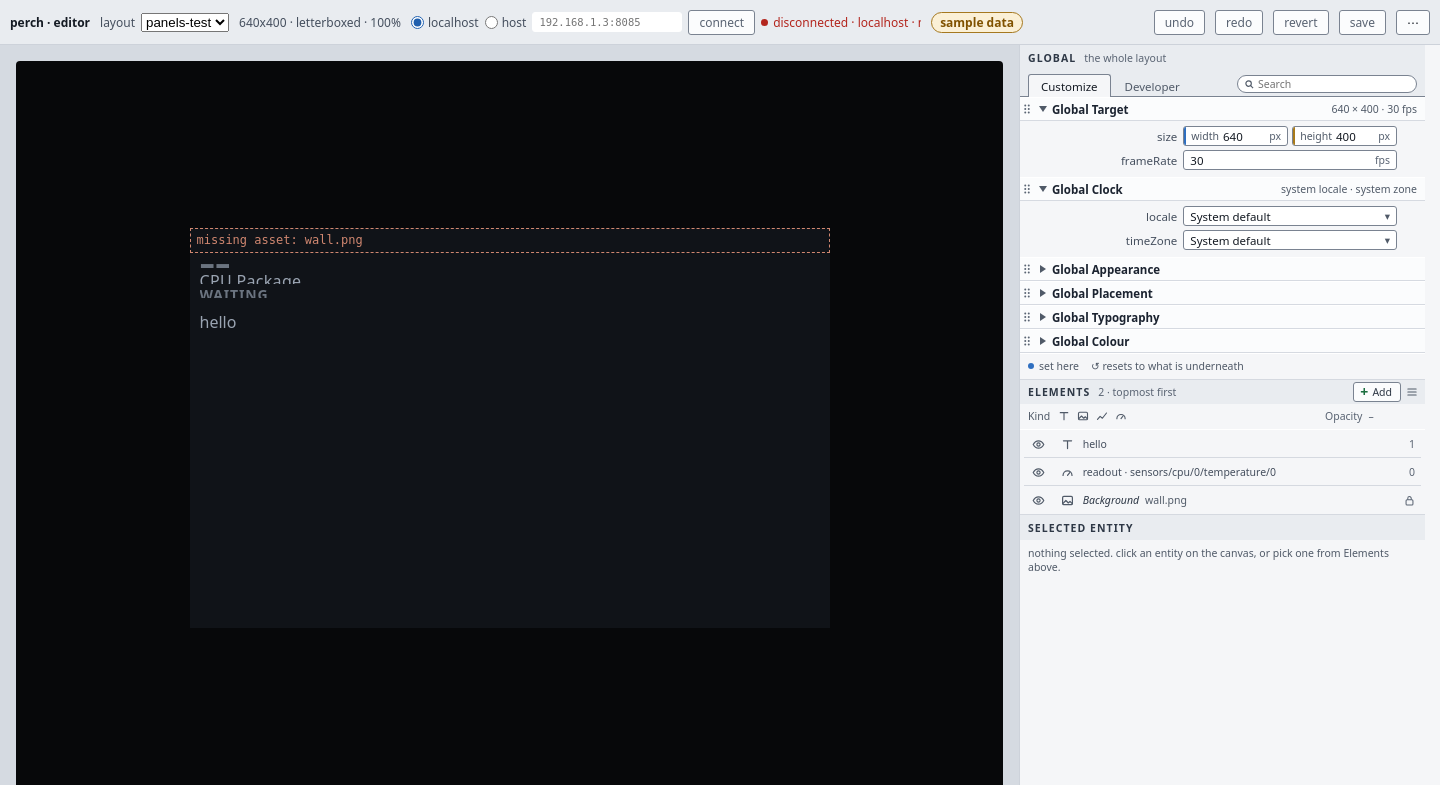
Test: the Elements group › leaves the selected entity with its header first
The width and height of the screenshot is (1440, 785).
What coordinates should you click on to do the following:
click the button "readout · sensors/cpu/0/temperature/0 0"
I would click on:
 (1236, 472)
Its box is [1052,458,1421,486].
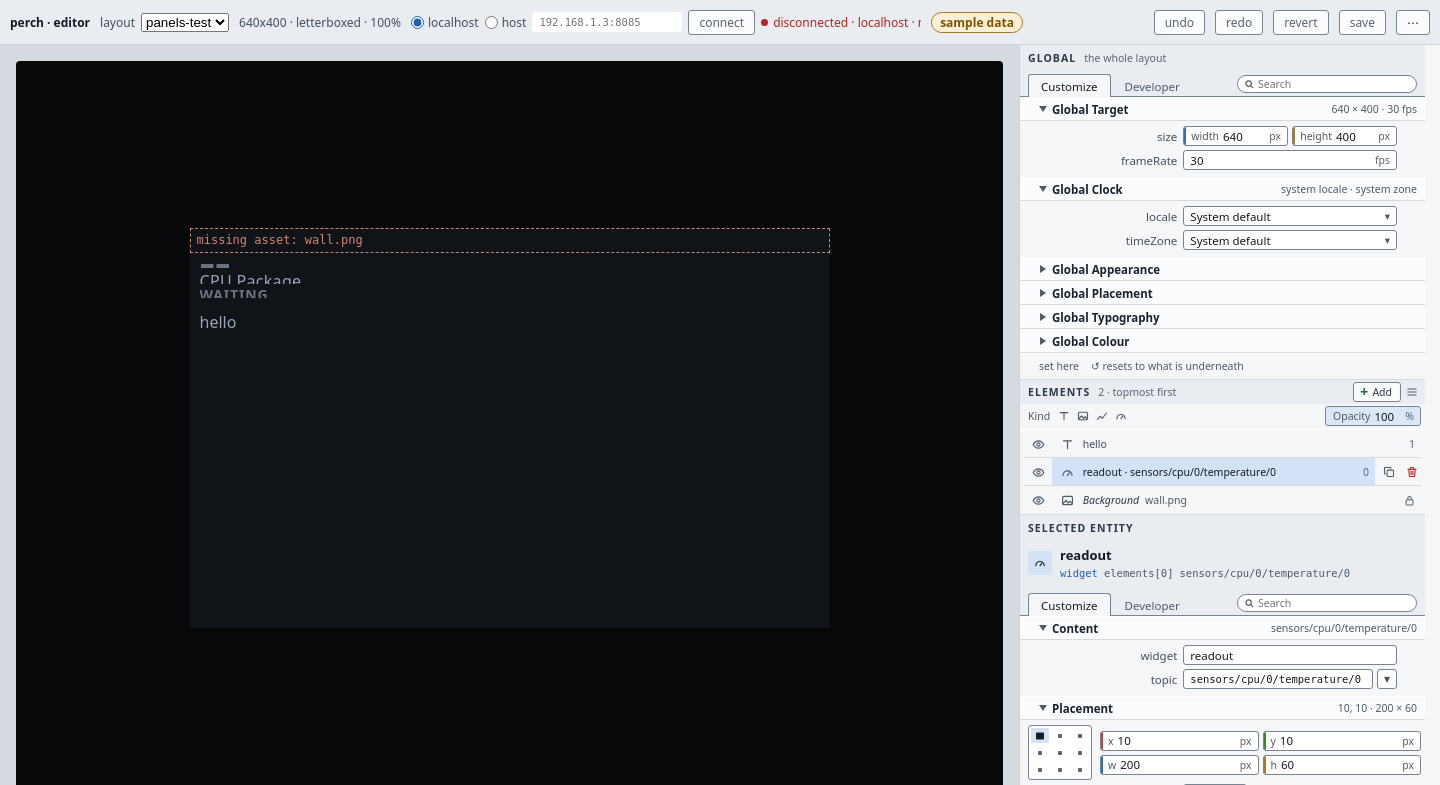
expect the button "Content" is shown: met, box [1034,618,1265,639]
